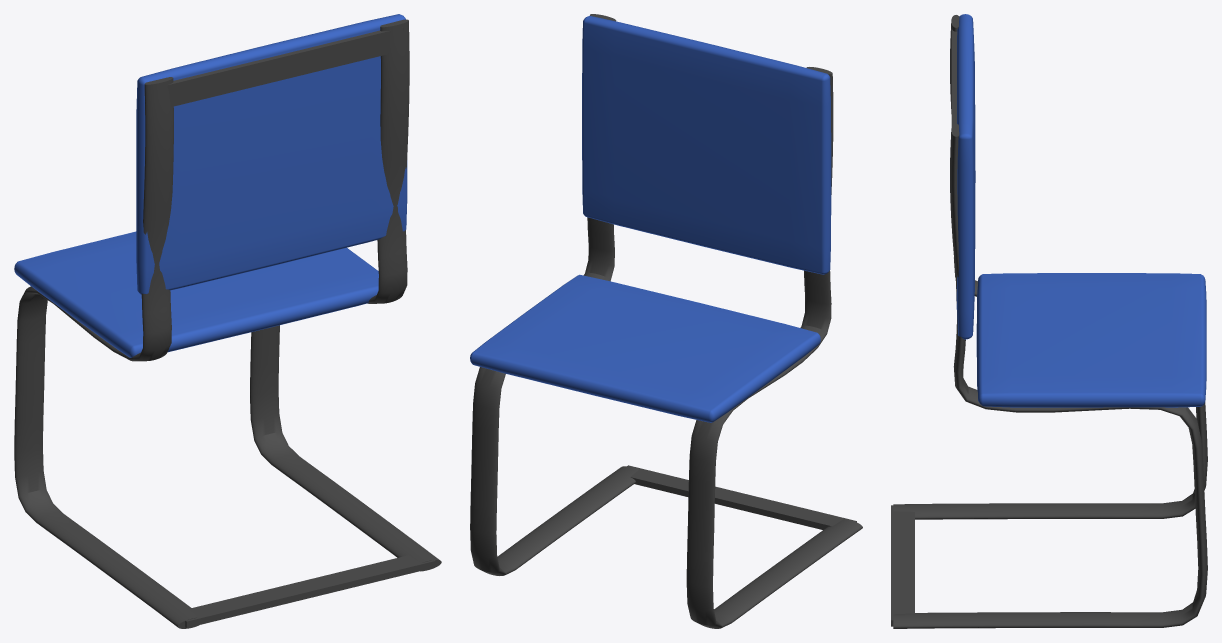
The model's file is conference chair.fbx.
3 renders of one model, left to right at view 1: azimuth 30°, elevation 25°; view 2: azimuth 150°, elevation 25°; view 3: azimuth 270°, elevation 25°, orthographic. The views are drawn at different scales.
Visible parts, largest first — view 1: pCube12; view 2: pCube12; view 3: pCube12.
Boxes of the visible parts, left/top/right/bottom form: pCube12: left=14, top=14, right=441, bottom=628; pCube12: left=470, top=14, right=862, bottom=628; pCube12: left=891, top=14, right=1207, bottom=628.
Size of the model in its own units: 4.92 by 9.19 by 5.3.
